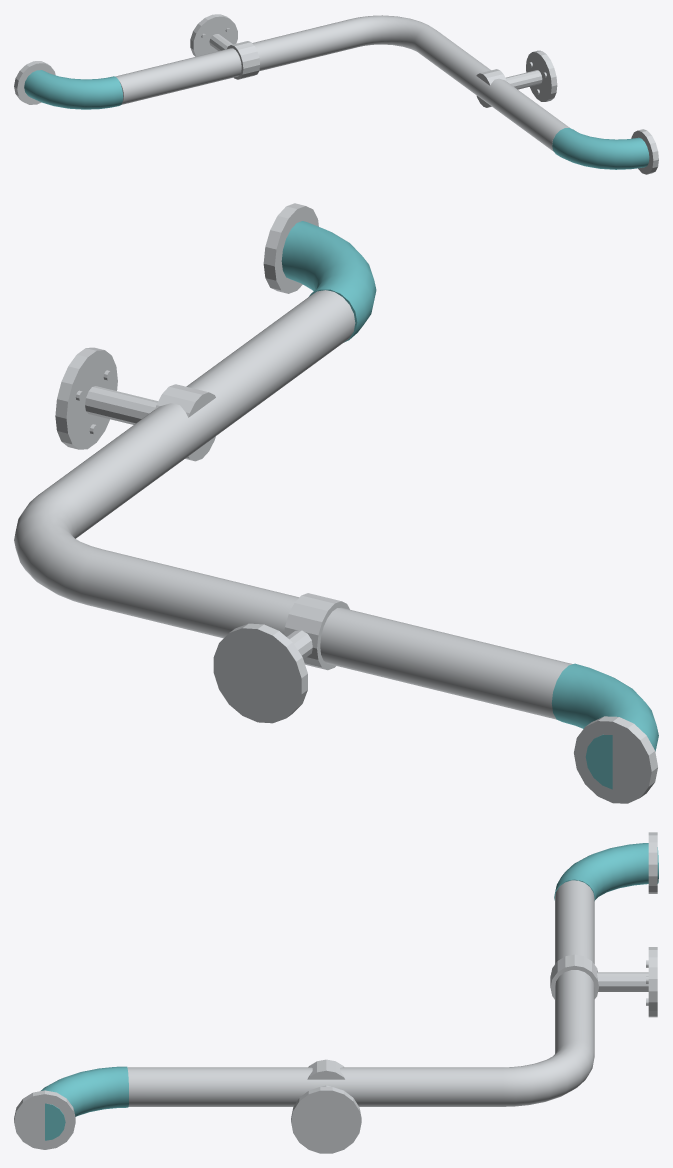
The model's file is wall_bar_v2.fbx.
3 renders of one model, top to bottom at view 1: azimuth 30°, elevation 25°; view 2: azimuth 150°, elevation 25°; view 3: azimuth 270°, elevation 25°, orthographic. The views are drawn at different scales.
Parts seen in each view (by area): view 1: 03_Handrail_Corner_Intact_Mesh; view 2: 03_Handrail_Corner_Intact_Mesh; view 3: 03_Handrail_Corner_Intact_Mesh.
Boxes of the visible parts, x1,y1,x2,y2 form: 03_Handrail_Corner_Intact_Mesh: [14, 14, 658, 174]; 03_Handrail_Corner_Intact_Mesh: [14, 203, 658, 803]; 03_Handrail_Corner_Intact_Mesh: [14, 832, 658, 1153].
Size of the model in its own units: 58.43 by 6.4 by 58.43.
